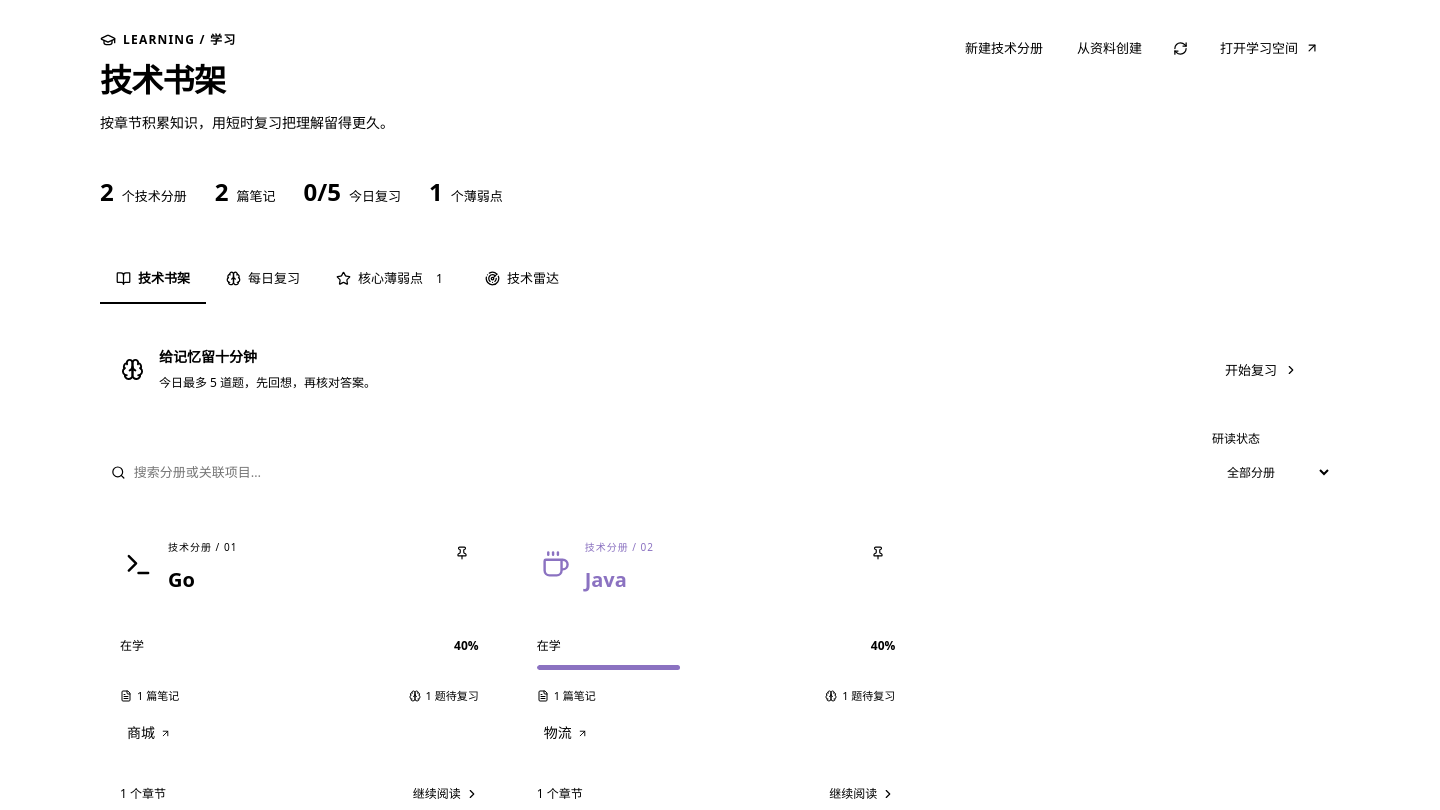
Test case: LearningView › shows only persistent weak cards and derives all four radar decisions from Markdown
The image size is (1440, 810).
Click the button with test id "learning-tab-weak" at (392, 280), box [320,256,465,304]
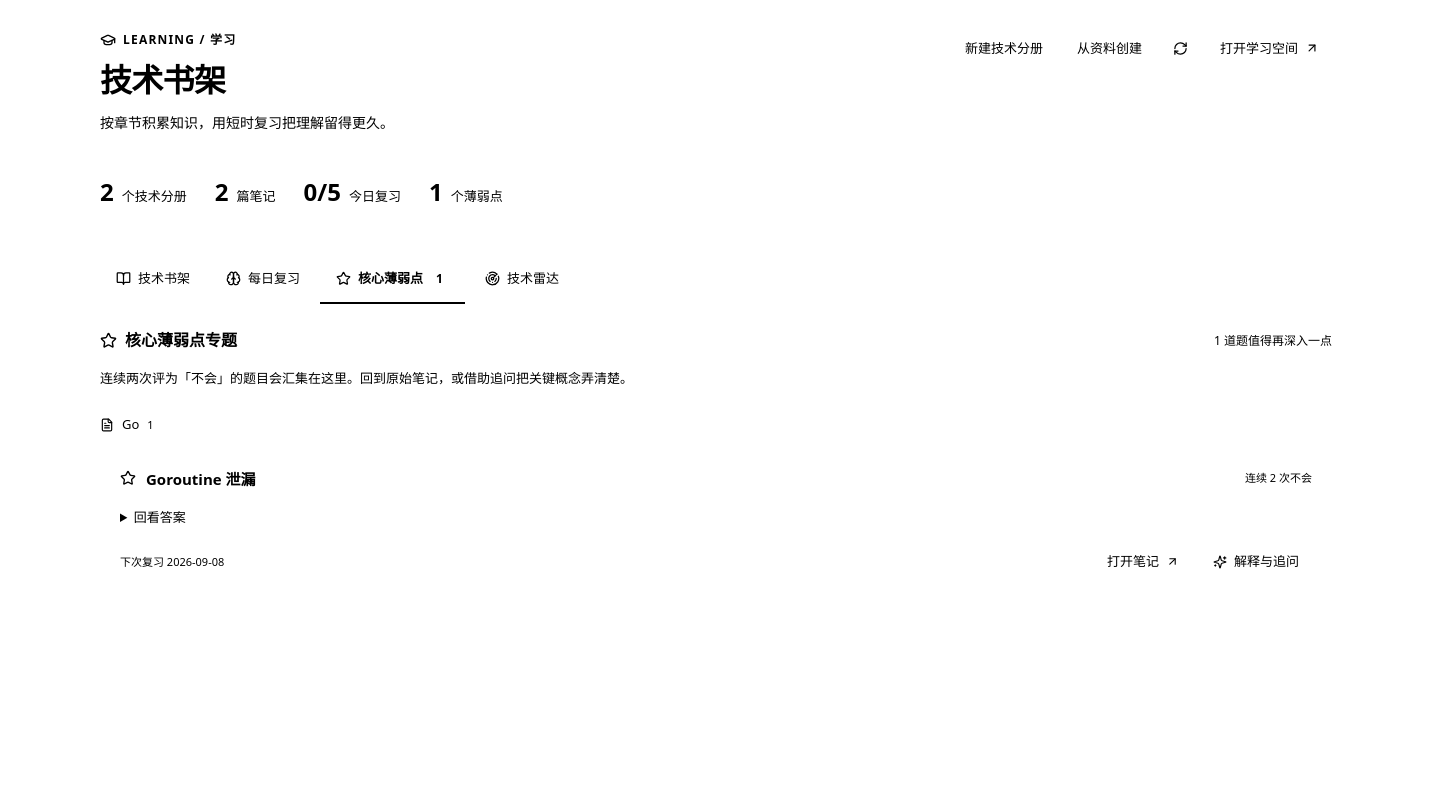
Check: the element with test id "weak-card-list" shows "Goroutine 泄漏", box [146,469,256,489]
Click the button with test id "learning-tab-radar" at (522, 280), box [469,256,575,304]
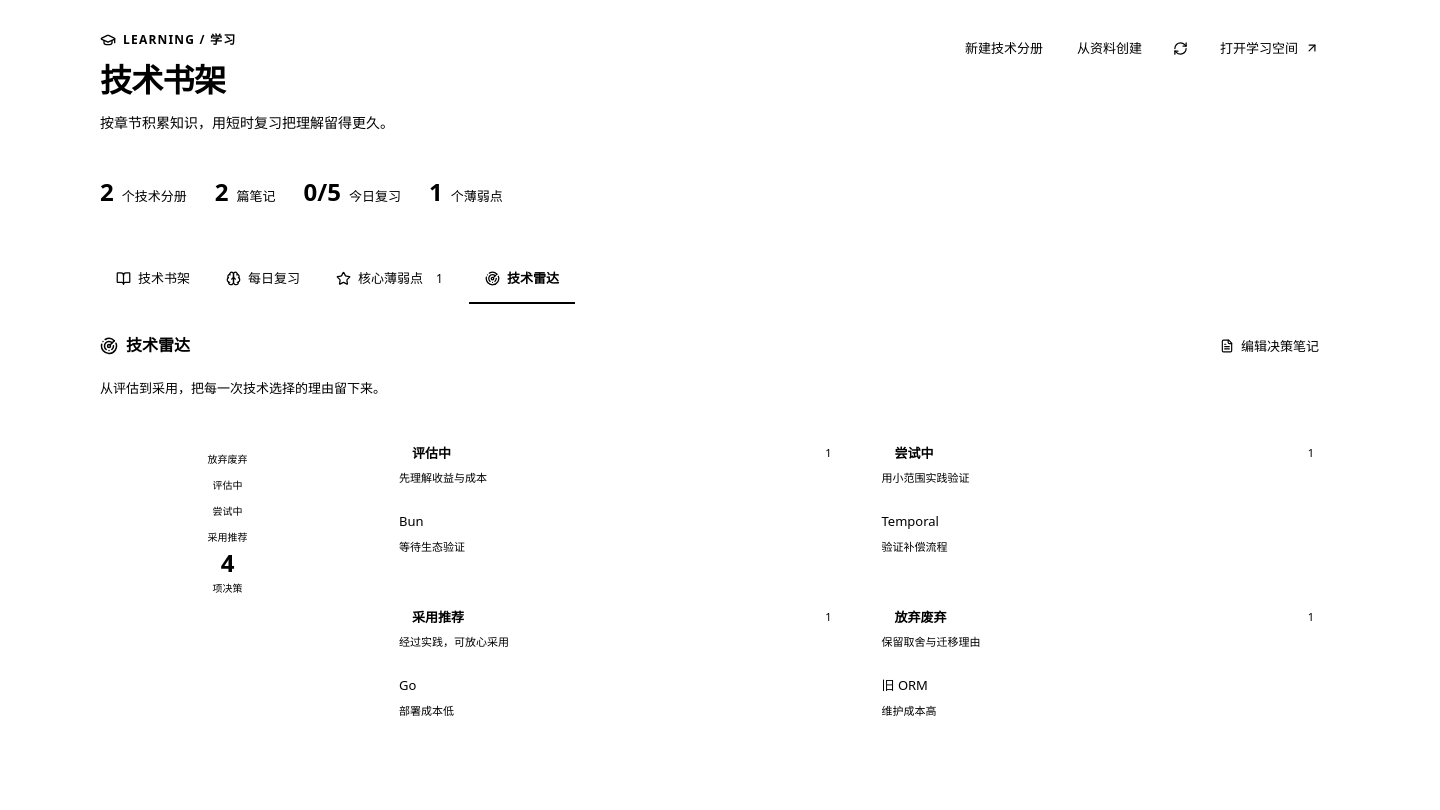
Check: the number of elements with test id "radar-category" is 4, box [381,425,850,575]; [864,425,1332,575]; [381,589,850,739]; [864,589,1332,739]
Check: the element with test id "technology-radar" shows "验证补偿流程", box [882,539,948,554]
Check: the element with test id "technology-radar" shows "维护成本高", box [882,703,936,718]
